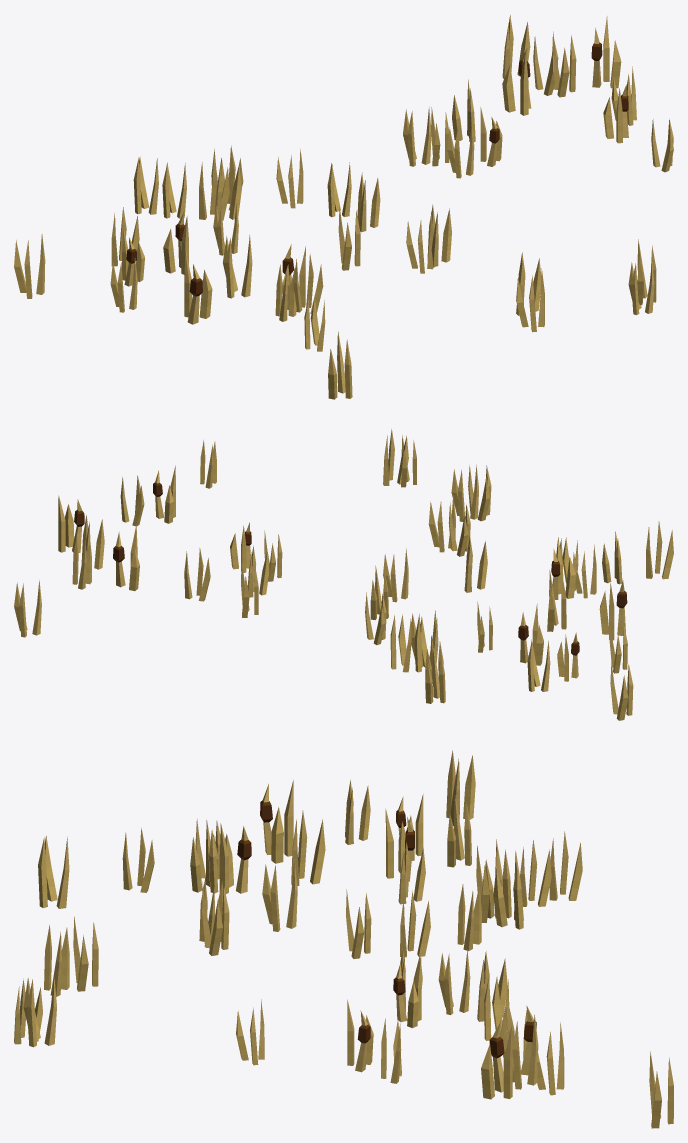
File: Grasses8.gltf
3 views of the same model, one above another, from view 1: azimuth 30°, elevation 25°; view 2: azimuth 150°, elevation 25°; view 3: azimuth 270°, elevation 25° (orthographic). The views are drawn at different scales.
Parts seen in each view (by area): view 1: Reed_with - copy.056, Reed_with - copy.034, Reed_normal - copy.264, Reed_with - copy.003, Reed_normal - copy.046, Reed_with - copy.030, Reed_normal - copy.024, Reed_with - copy.070, Reed_normal - copy.040, Reed_normal - copy.207, Reed_with - copy.017, Reed_normal - copy.145 (+27 smaller); view 2: Reed_with - copy.034, Reed_with - copy.056, Reed_with - copy.003, Reed_with - copy.030, Reed_with - copy.012, Reed_normal - copy.264, Reed_normal - copy.046, Reed_normal - copy.207, Reed_normal - copy.255, Reed_with - copy.070, Reed_normal - copy.203, Reed_normal - copy.303 (+24 smaller); view 3: Reed_with - copy.034, Reed_with - copy.056, Reed_with - copy.012, Reed_normal - copy.264, Reed_normal - copy.024, Reed_normal - copy.046, Reed_normal - copy.145, Reed_normal - copy.242, Reed_with - copy.072, Reed_normal - copy.153, Reed_normal - copy.194, Reed_with - copy.070 (+27 smaller).
Part boxes in pixels (<box>): Reed_with - copy.056: <box>184,250,212,324</box>; Reed_with - copy.034: <box>591,16,621,88</box>; Reed_normal - copy.264: <box>328,331,352,399</box>; Reed_with - copy.003: <box>502,48,531,115</box>; Reed_normal - copy.046: <box>14,234,45,298</box>; Reed_with - copy.030: <box>163,212,188,274</box>; Reed_normal - copy.024: <box>222,235,252,298</box>; Reed_with - copy.070: <box>603,84,628,143</box>; Reed_normal - copy.040: <box>552,31,576,97</box>; Reed_normal - copy.207: <box>133,156,158,214</box>; Reed_with - copy.017: <box>122,225,144,286</box>; Reed_normal - copy.145: <box>516,268,544,332</box>; Reed_with - copy.034: <box>58,495,84,552</box>; Reed_with - copy.056: <box>599,580,627,640</box>; Reed_with - copy.003: <box>113,524,139,590</box>; Reed_with - copy.030: <box>518,603,543,665</box>; Reed_with - copy.012: <box>551,537,576,599</box>; Reed_normal - copy.264: <box>646,521,673,579</box>; Reed_normal - copy.046: <box>610,660,633,720</box>; Reed_normal - copy.207: <box>425,646,445,703</box>; Reed_normal - copy.255: <box>390,614,411,672</box>; Reed_with - copy.070: <box>153,465,175,523</box>; Reed_normal - copy.203: <box>14,580,41,637</box>; Reed_normal - copy.303: <box>451,465,478,521</box>; Reed_with - copy.034: <box>481,1021,512,1099</box>; Reed_with - copy.056: <box>260,780,293,863</box>; Reed_with - copy.012: <box>219,823,251,893</box>; Reed_normal - copy.264: <box>38,836,69,908</box>; Reed_normal - copy.024: <box>291,810,325,885</box>; Reed_normal - copy.046: <box>446,750,475,826</box>; Reed_normal - copy.145: <box>44,925,69,996</box>; Reed_normal - copy.242: <box>262,859,297,931</box>; Reed_with - copy.072: <box>393,957,421,1028</box>; Reed_normal - copy.153: <box>447,794,471,867</box>; Reed_normal - copy.194: <box>201,882,229,955</box>; Reed_with - copy.070: <box>347,999,373,1072</box>.
Bounding box in the file's own units: 11.6 × 2.21 × 9.3.
2 materials, 2 textured.
